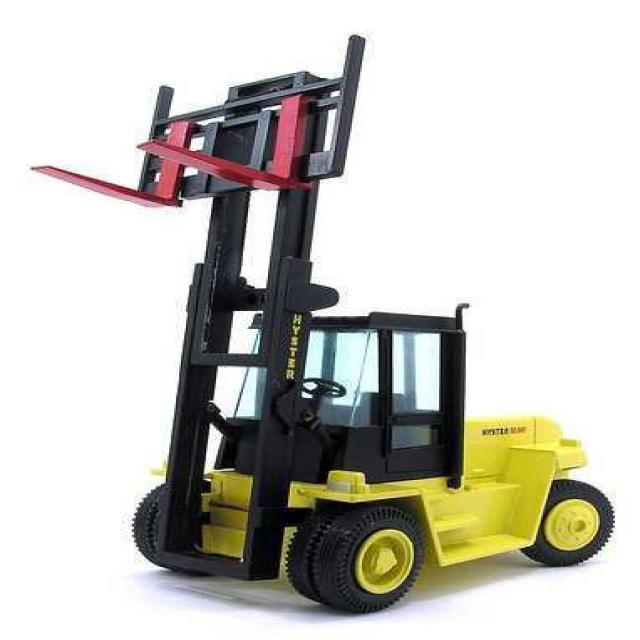forklift: (28, 33, 615, 614)
